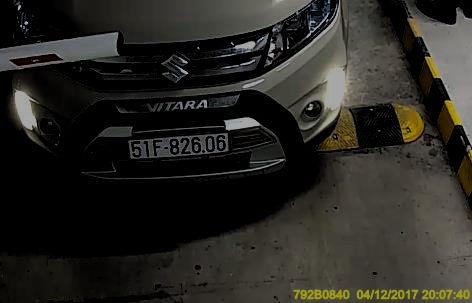plate: (127, 133, 229, 157)
